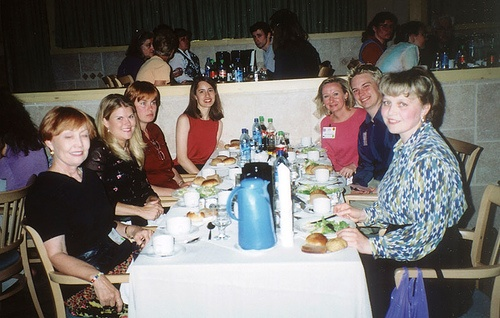head: (381, 67, 434, 137), (38, 106, 91, 176), (349, 65, 382, 114), (103, 100, 136, 144), (320, 78, 350, 117), (134, 81, 161, 123), (431, 11, 458, 48), (397, 22, 430, 51), (190, 78, 218, 108), (372, 12, 396, 45), (250, 21, 272, 51), (177, 27, 192, 52)
person: (327, 59, 465, 318), (23, 104, 152, 315), (89, 94, 162, 222), (123, 81, 185, 189), (347, 63, 397, 187), (312, 77, 365, 176), (175, 74, 225, 172), (1, 86, 48, 189), (259, 8, 324, 80), (373, 20, 426, 71), (356, 10, 398, 68), (134, 25, 175, 83), (115, 28, 152, 81), (168, 26, 200, 81), (249, 20, 272, 71)
